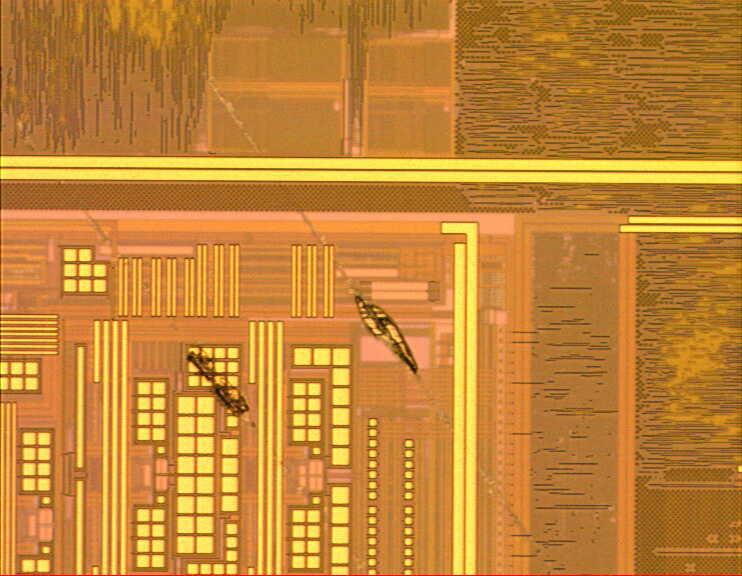SCRATCH: (1, 25, 536, 576)
